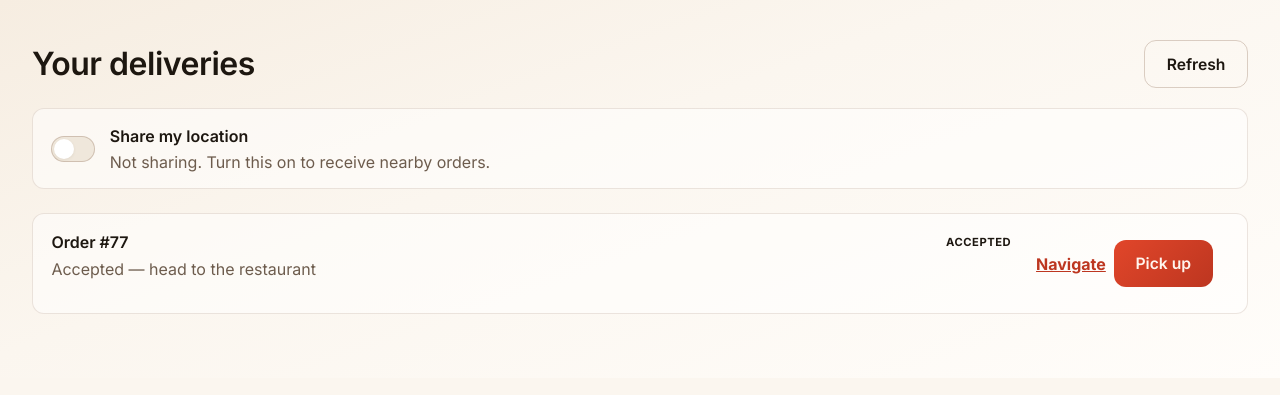
DriverPage location sharing › explains a blocked permission instead of failing silently
The image size is (1280, 395).
Click the switch named "share my location". click: click(73, 149)
box: left=51, top=136, right=95, bottom=162
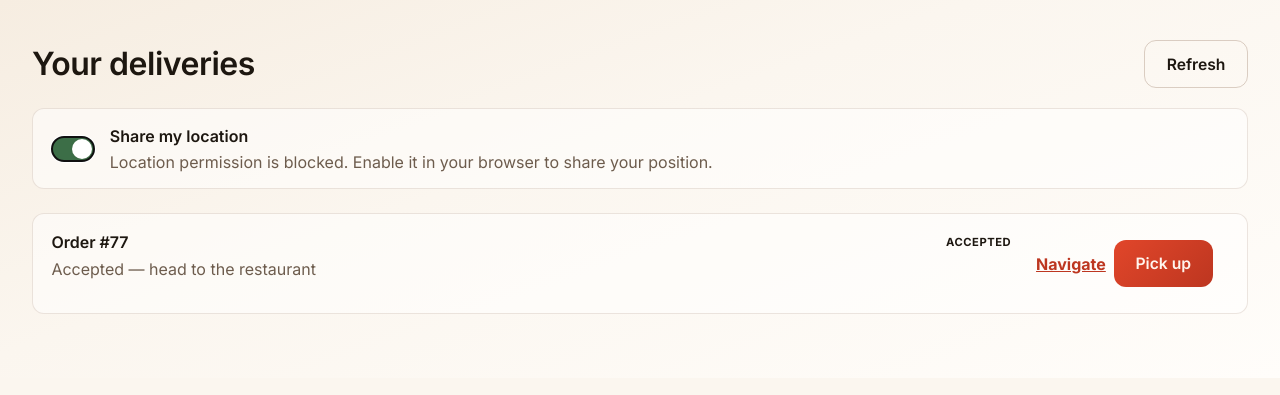
expect the text "Location permission is blocked" is shown: met, box left=110, top=152, right=713, bottom=172
